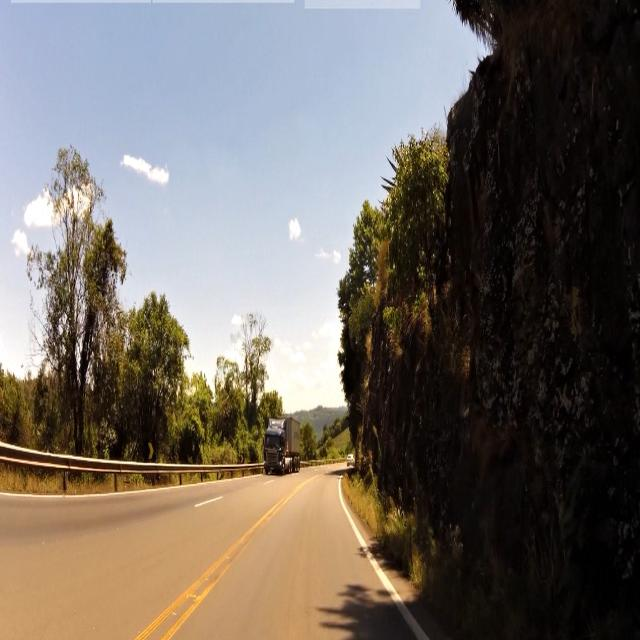Del: (147, 441, 154, 461)
